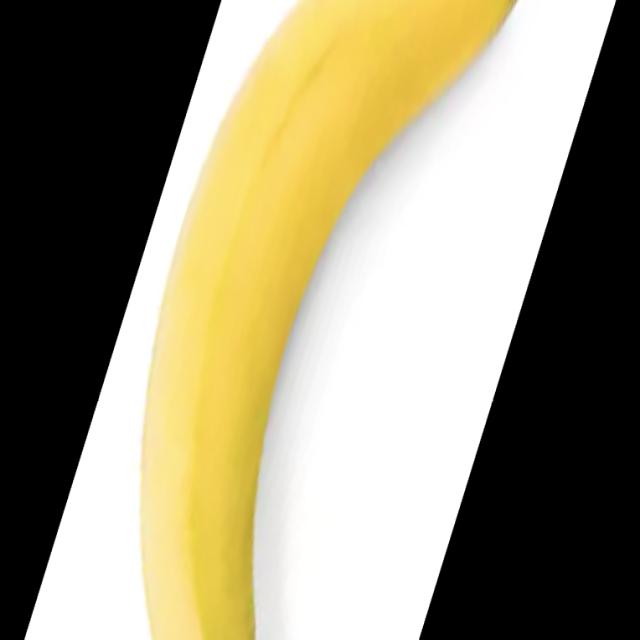god quality banana: (142, 0, 513, 638)
